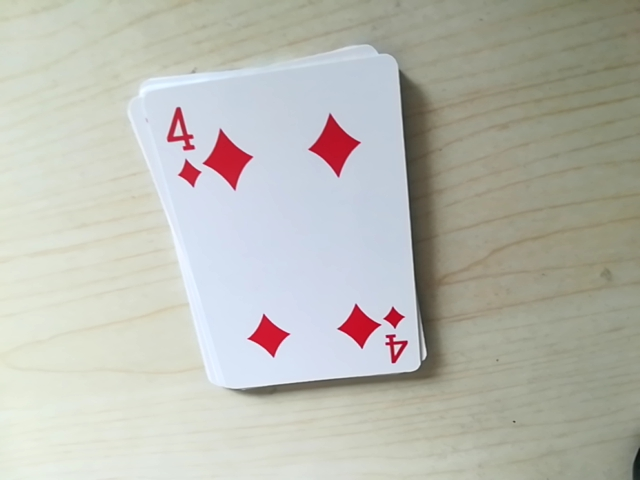fk 4: (149, 95, 194, 156), (372, 304, 411, 366)
